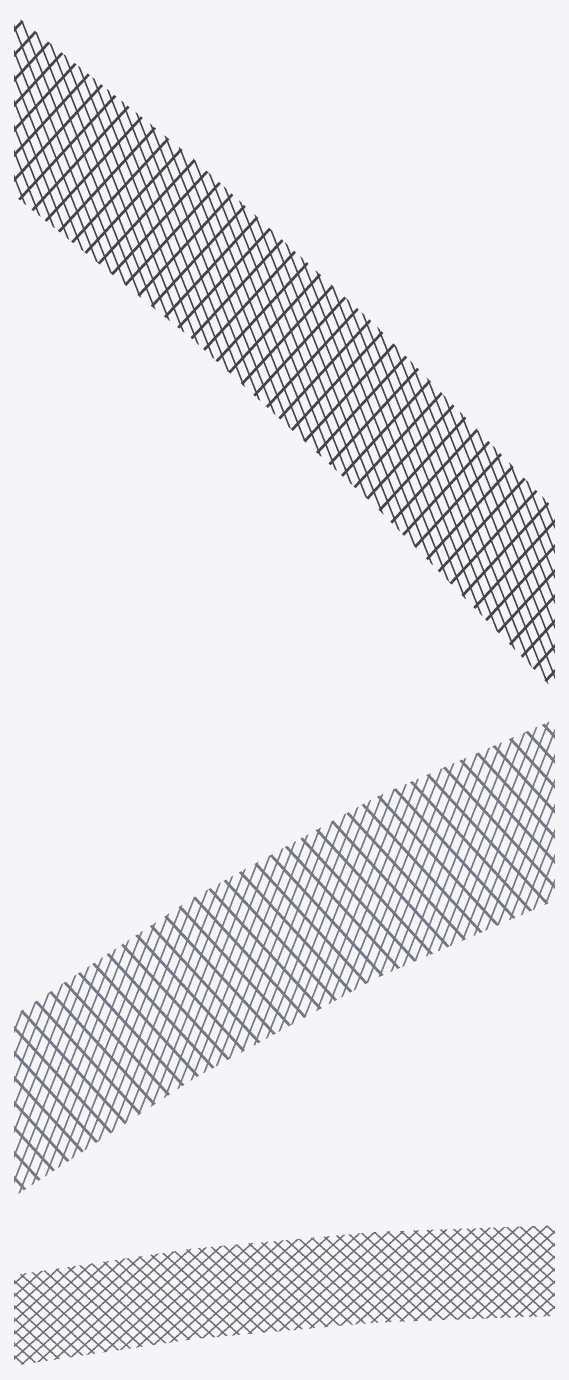
File: SW_ENV_WalledRiserEnd_WireFence_Mesh.fbx
3 renders of one model, top to bottom at view 1: azimuth 30°, elevation 25°; view 2: azimuth 150°, elevation 25°; view 3: azimuth 270°, elevation 25°, orthographic. The views are drawn at different scales.
Visible parts, largest first — view 1: SW_ENV_WalledRiserEnd_WireFence_Mesh; view 2: SW_ENV_WalledRiserEnd_WireFence_Mesh; view 3: SW_ENV_WalledRiserEnd_WireFence_Mesh.
Boxes of the visible parts, <box> form: SW_ENV_WalledRiserEnd_WireFence_Mesh: <box>14,19,554,683</box>; SW_ENV_WalledRiserEnd_WireFence_Mesh: <box>14,722,554,1193</box>; SW_ENV_WalledRiserEnd_WireFence_Mesh: <box>14,1225,554,1364</box>.
Size of the model in its own units: 0.2001 by 281 by 980.
